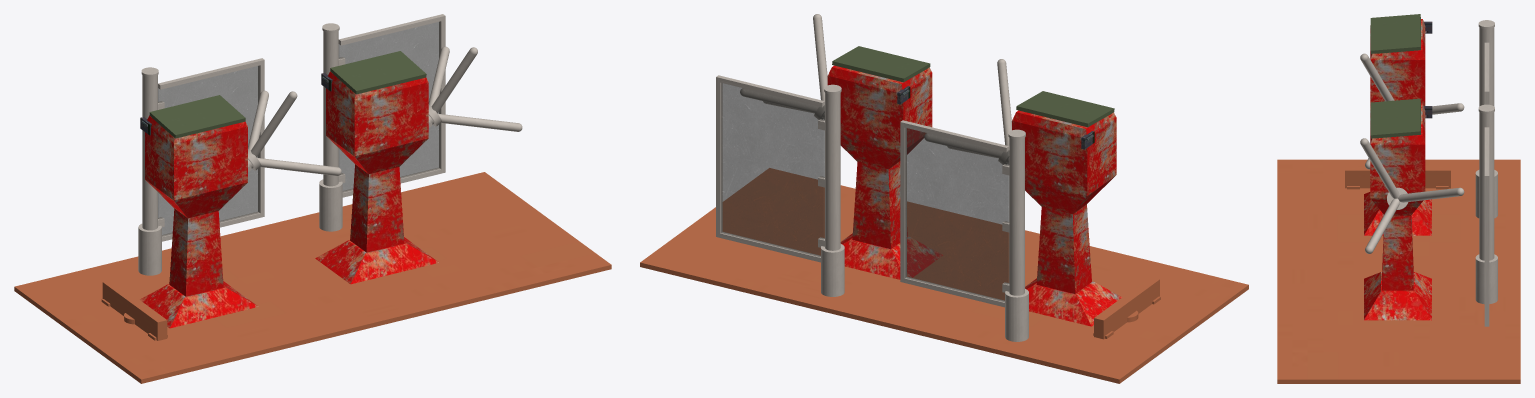
Rendered from Other_Tripod_Turnstile__2664.glb.
The picture shows the model from 3 angles, left to right: view 1: azimuth 30°, elevation 25°; view 2: azimuth 150°, elevation 25°; view 3: azimuth 270°, elevation 25°; orthographic projection. The views are drawn at different scales.
Visible parts, largest first — view 1: cabinet::base_plate, cabinet::head_shell_+0.47, cabinet::head_shell_-0.47, glass_leaf_1::glass_pane, glass_leaf_0::glass_pane, cabinet::column_-0.47, cabinet::column_+0.47, cabinet::base_plinth_+0.47, cabinet::base_plinth_-0.47, cabinet::sloped_cap_-0.47, cabinet::sloped_cap_+0.47, side_railing_0::frame (+14 smaller); view 2: cabinet::base_plate, glass_leaf_0::glass_pane, glass_leaf_1::glass_pane, cabinet::head_shell_-0.47, cabinet::head_shell_+0.47, cabinet::column_-0.47, cabinet::column_+0.47, cabinet::base_plinth_-0.47, cabinet::base_plinth_+0.47, glass_post_0::hinge_post, glass_post_1::hinge_post, cabinet::sloped_cap_+0.47 (+14 smaller); view 3: cabinet::base_plate, cabinet::head_shell_+0.47, cabinet::base_plinth_+0.47, cabinet::head_shell_-0.47, cabinet::column_+0.47, cabinet::sloped_cap_+0.47, cabinet::sloped_cap_-0.47, glass_post_1::hinge_post, cabinet::base_plinth_-0.47, side_railing_0::frame, glass_post_0::hinge_post, glass_leaf_1::frame_free_edge (+9 smaller).
Part boxes in pixels (x1,y1,x2,y2): cabinet::base_plate: (14,172,611,383); cabinet::head_shell_+0.47: (326,71,428,173); cabinet::head_shell_-0.47: (145,116,247,218); glass_leaf_1::glass_pane: (338,21,440,192); glass_leaf_0::glass_pane: (158,65,259,236); cabinet::column_-0.47: (169,208,223,296); cabinet::column_+0.47: (350,164,404,252); cabinet::base_plinth_+0.47: (315,237,439,284); cabinet::base_plinth_-0.47: (140,281,258,328); cabinet::sloped_cap_-0.47: (149,95,245,138); cabinet::sloped_cap_+0.47: (330,51,426,94); side_railing_0::frame: (102,280,167,340); cabinet::base_plate: (640,168,1248,383); glass_leaf_0::glass_pane: (905,128,1009,301); glass_leaf_1::glass_pane: (721,83,824,256); cabinet::head_shell_-0.47: (1012,110,1116,214); cabinet::head_shell_+0.47: (827,65,932,169); cabinet::column_-0.47: (1036,204,1091,293); cabinet::column_+0.47: (852,161,907,249); cabinet::base_plinth_-0.47: (1025,278,1122,326); cabinet::base_plinth_+0.47: (840,233,942,279); glass_post_0::hinge_post: (1009,137,1024,295); glass_post_1::hinge_post: (825,93,840,250); cabinet::sloped_cap_+0.47: (832,46,930,82); cabinet::base_plate: (1277,159,1520,383); cabinet::head_shell_+0.47: (1370,103,1425,215); cabinet::base_plinth_+0.47: (1364,272,1431,320); cabinet::head_shell_-0.47: (1370,19,1425,109); cabinet::column_+0.47: (1382,215,1413,290); cabinet::sloped_cap_+0.47: (1370,98,1420,138); cabinet::sloped_cap_-0.47: (1370,14,1420,54); glass_post_1::hinge_post: (1479,112,1494,260); cabinet::base_plinth_-0.47: (1364,192,1431,235); side_railing_0::frame: (1345,166,1450,188); glass_post_0::hinge_post: (1479,27,1494,106); glass_leaf_1::frame_free_edge: (1484,174,1489,326).
Size of the model in its own units: 2.46 by 1.05 by 1.15.
7 materials, 7 textured.
